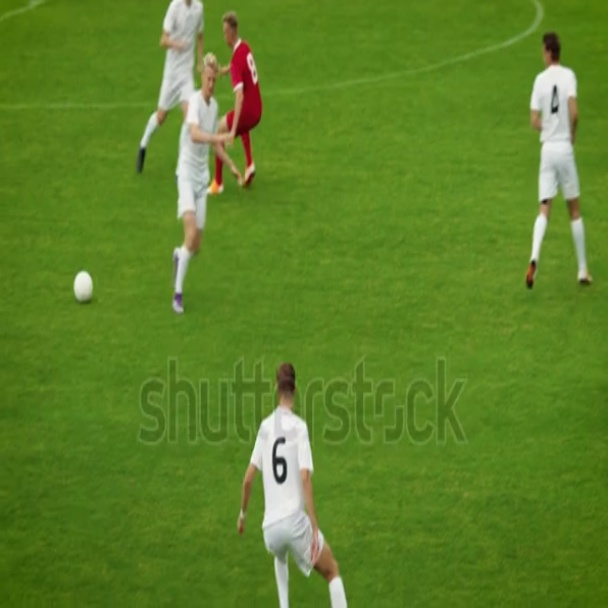ball: (75, 270, 92, 299)
